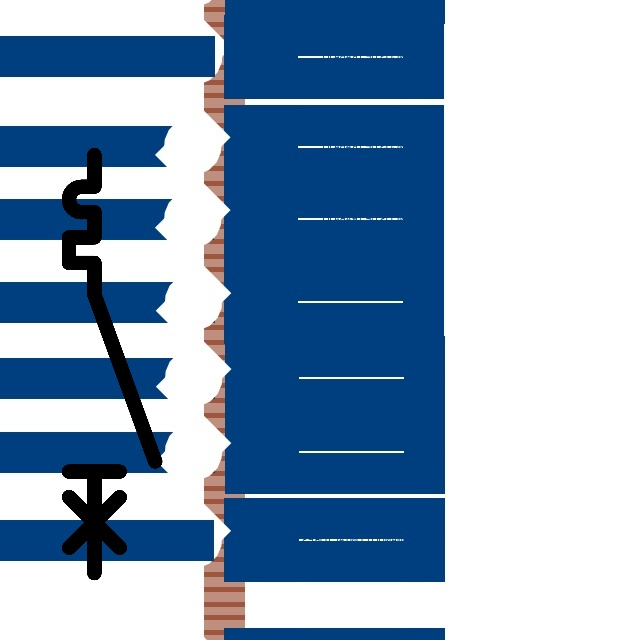interruptor_termomagnetico: (58, 144, 165, 584)
